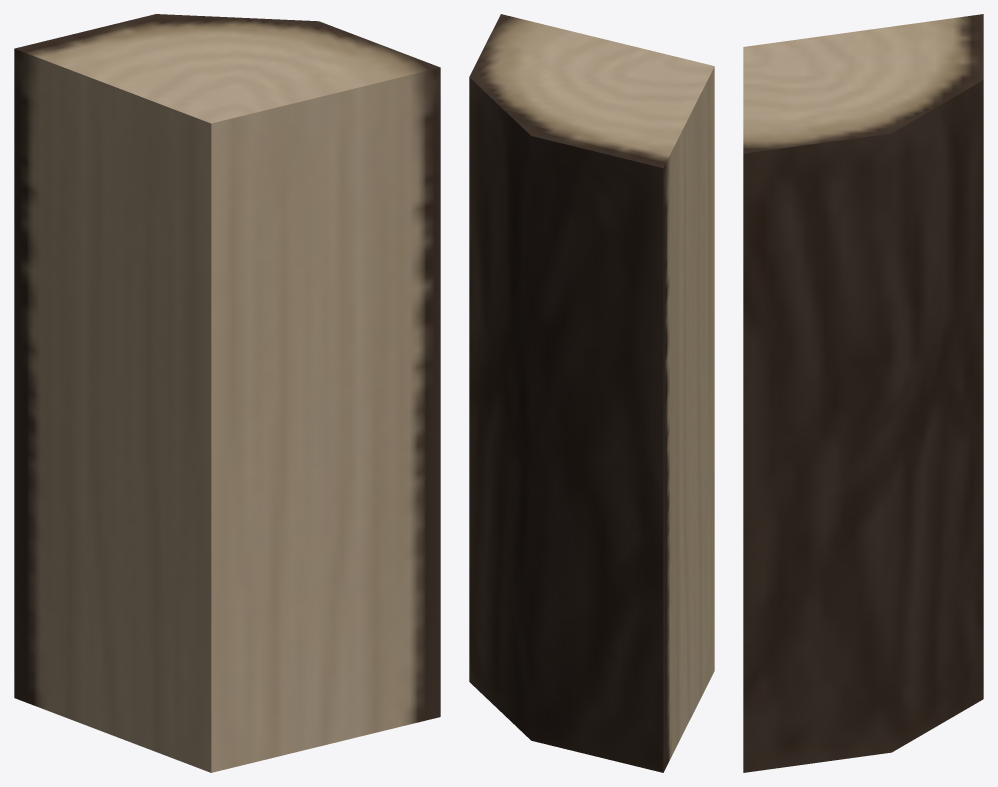
Rendered from Firewood02_Geo.fbx.
3 renders of one model, left to right at view 1: azimuth 30°, elevation 25°; view 2: azimuth 150°, elevation 25°; view 3: azimuth 270°, elevation 25°, orthographic. The views are drawn at different scales.
Visible parts, largest first — view 1: Firewood02_Geo; view 2: Firewood02_Geo; view 3: Firewood02_Geo.
Boxes of the visible parts, box(x1,y1,x2,y2) form: Firewood02_Geo: box(14, 14, 440, 772); Firewood02_Geo: box(469, 14, 714, 772); Firewood02_Geo: box(743, 14, 983, 772).
Bounding box in the file's own units: 19.57 × 40.43 × 14.22.
